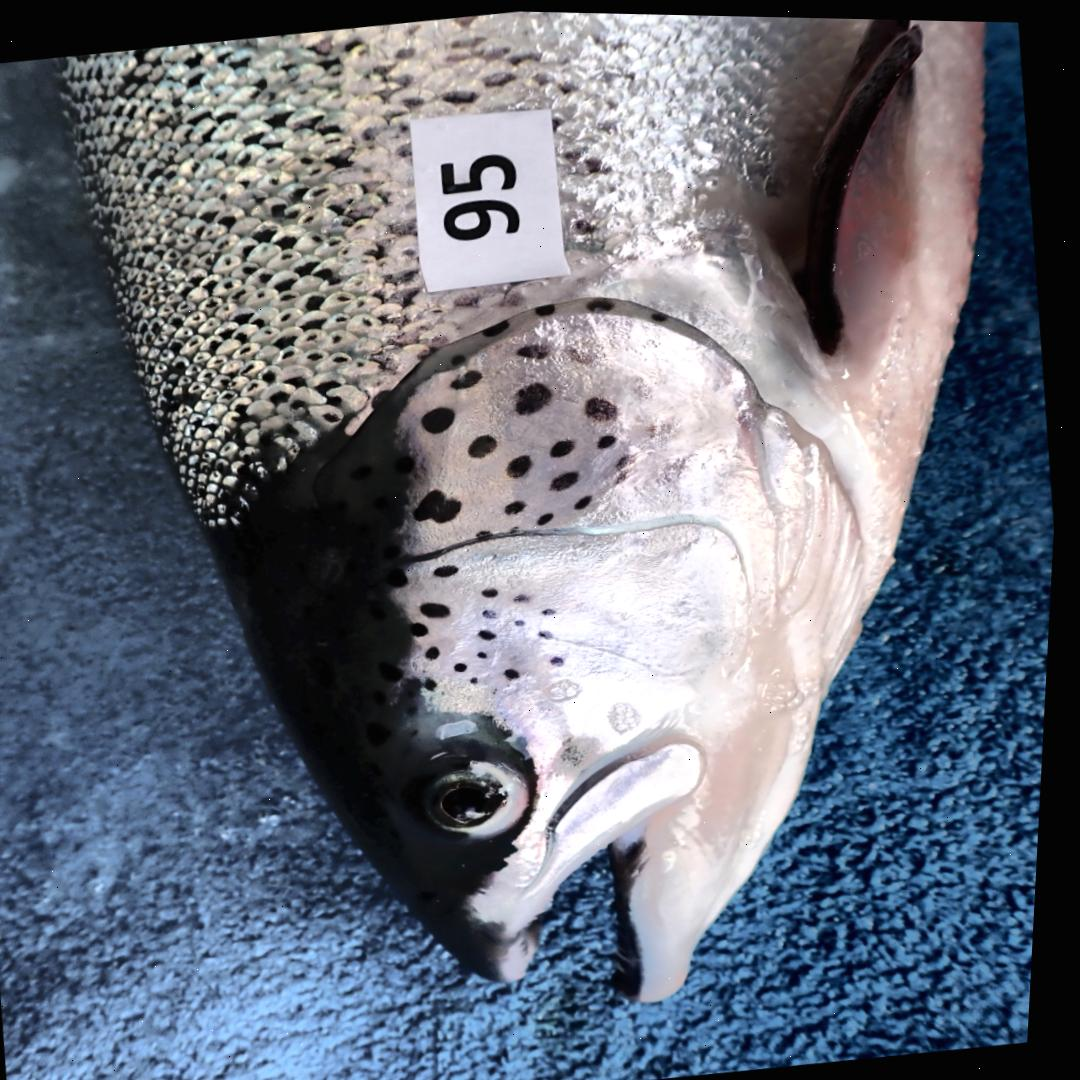spot: (419, 486, 467, 520), (519, 379, 556, 411), (425, 404, 460, 431), (588, 392, 621, 418), (471, 432, 502, 455), (454, 366, 485, 386), (510, 451, 536, 474), (554, 468, 583, 487), (520, 339, 552, 356), (484, 316, 513, 333), (427, 599, 456, 615), (554, 436, 580, 453), (589, 295, 617, 309), (438, 562, 464, 574), (510, 497, 530, 511), (600, 431, 620, 444), (417, 619, 434, 634), (537, 300, 558, 312), (579, 492, 596, 506), (654, 306, 672, 319), (483, 626, 503, 637), (430, 643, 445, 657), (543, 509, 560, 521), (430, 674, 445, 687), (511, 665, 527, 675), (557, 652, 571, 663), (455, 351, 469, 362), (487, 605, 502, 614), (460, 660, 474, 669), (489, 584, 503, 593), (545, 627, 560, 635), (481, 527, 496, 534), (521, 591, 535, 598), (548, 604, 562, 611), (521, 616, 532, 622), (484, 648, 494, 654), (477, 673, 485, 680)
